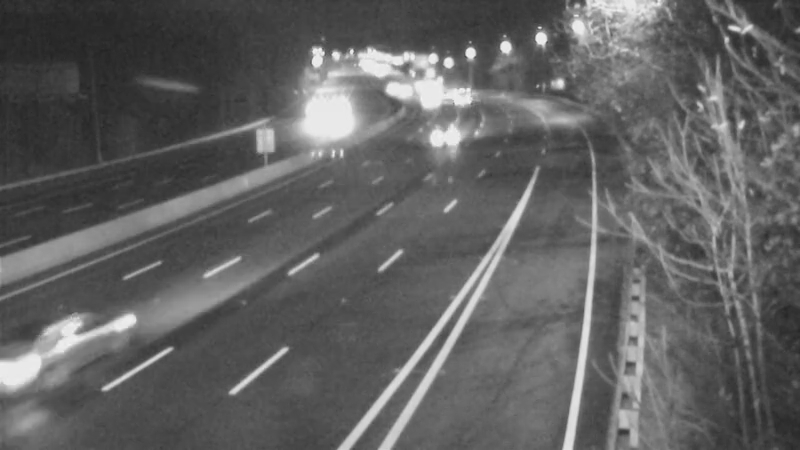vehicle: (1, 311, 96, 421), (379, 61, 429, 111), (437, 69, 487, 119), (396, 74, 446, 124), (418, 111, 468, 161)
